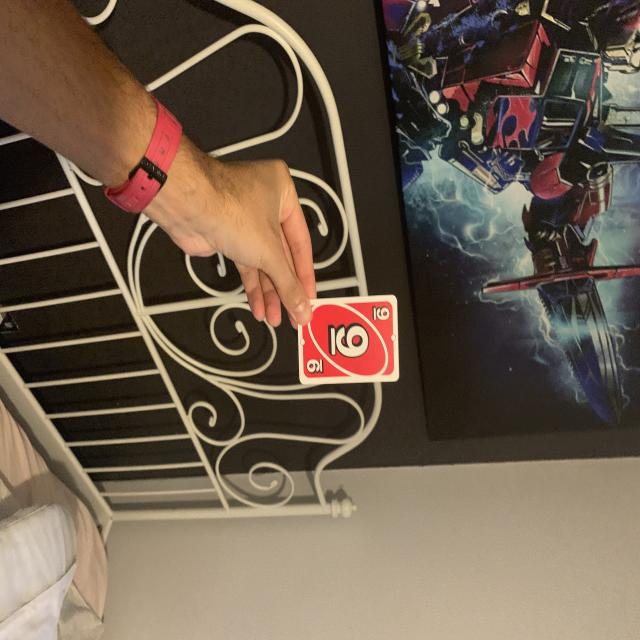lred-9: (370, 303, 392, 324)
